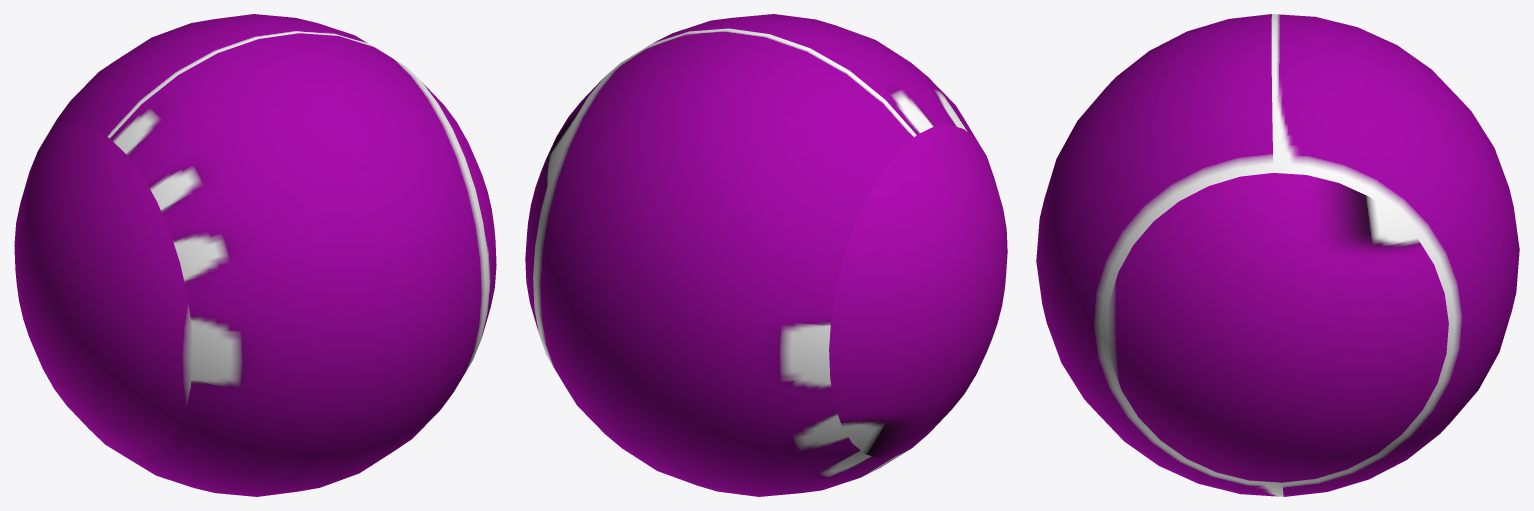
Rendered from ball_new.FBX.
3 renders of one model, left to right at view 1: azimuth 30°, elevation 25°; view 2: azimuth 150°, elevation 25°; view 3: azimuth 270°, elevation 25°, orthographic.
Visible parts, largest first — view 1: ball; view 2: ball; view 3: ball.
Part boxes in pixels (bbox=[...]): ball: bbox=[14, 14, 496, 496]; ball: bbox=[525, 14, 1007, 496]; ball: bbox=[1036, 14, 1519, 496].
Size of the model in its own units: 101 by 101 by 101.
